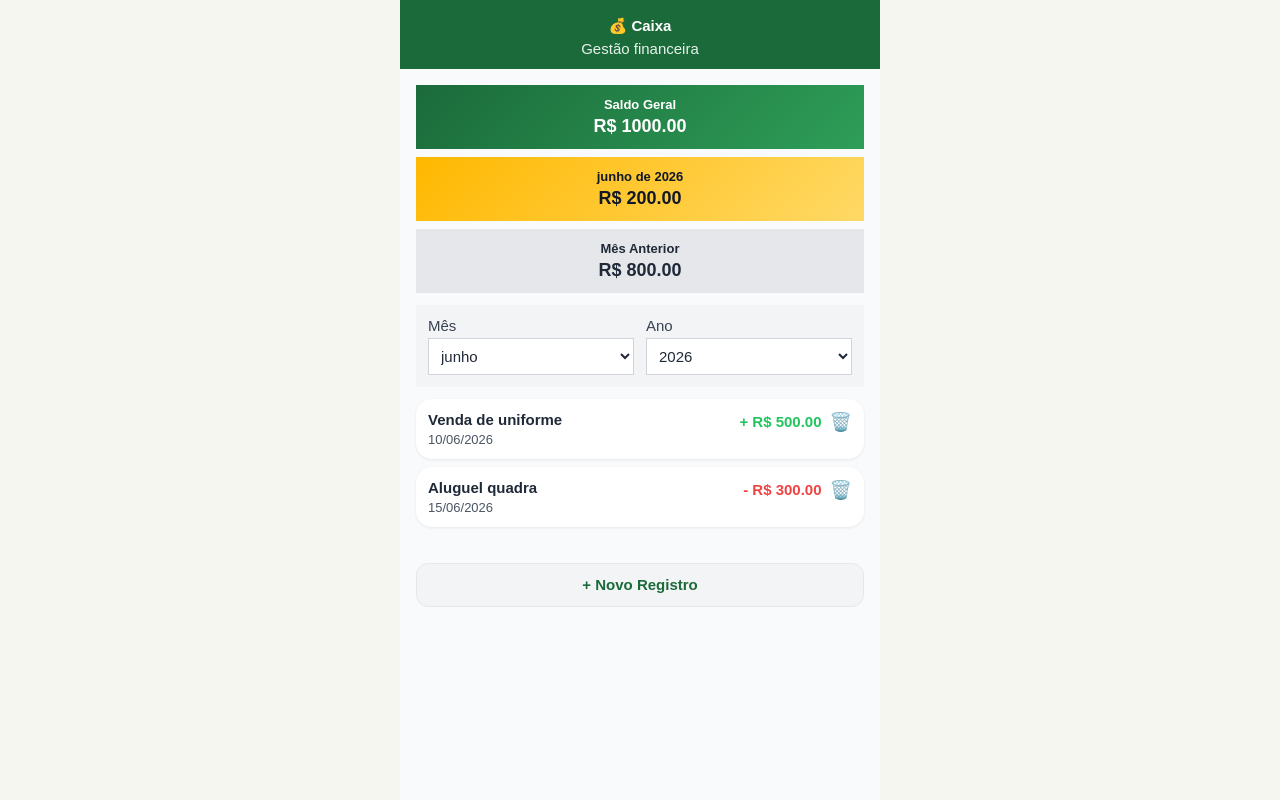
Test: FinancialScreen › opens create sheet when button clicked
The width and height of the screenshot is (1280, 800).
Click the button "+ Novo Registro" at (640, 584), box top-left (416, 562), bottom-right (864, 606)
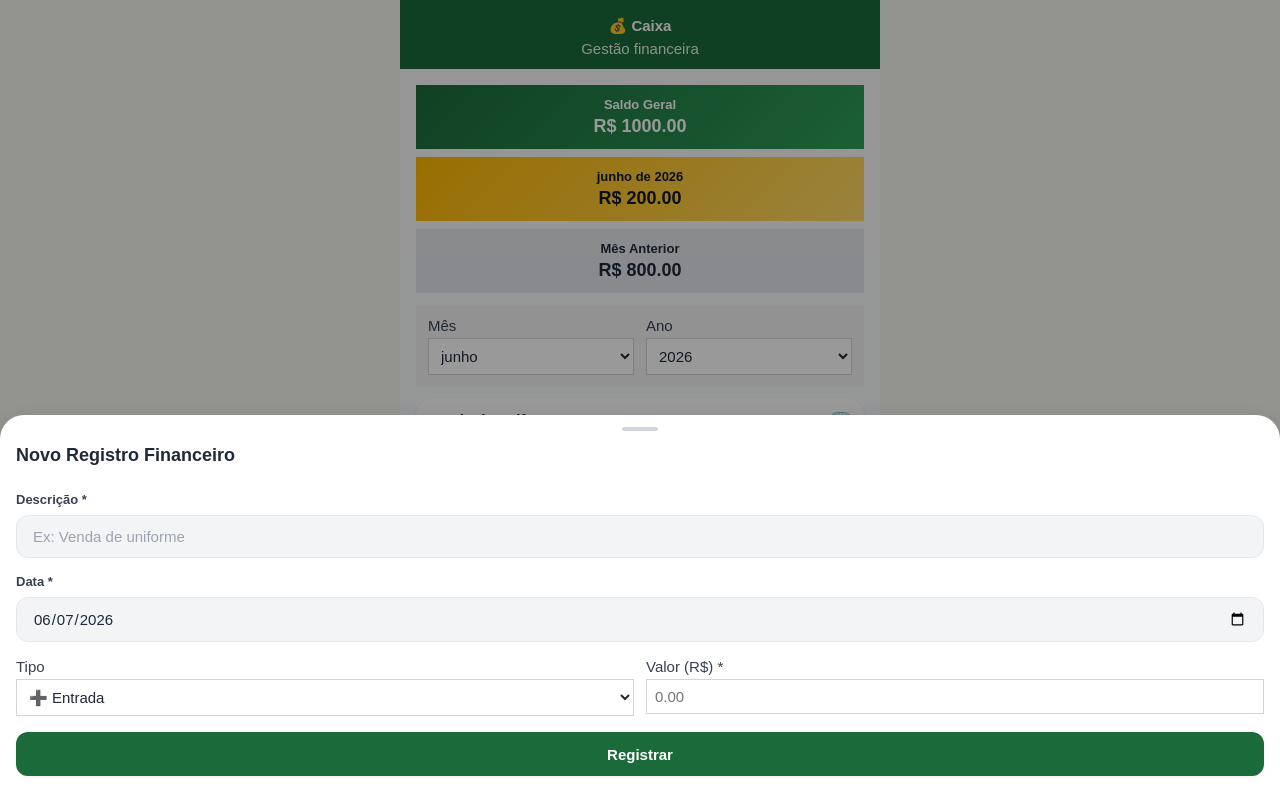
Expected: the heading "Novo Registro Financeiro" is shown, top-left (16, 445), bottom-right (235, 465)
